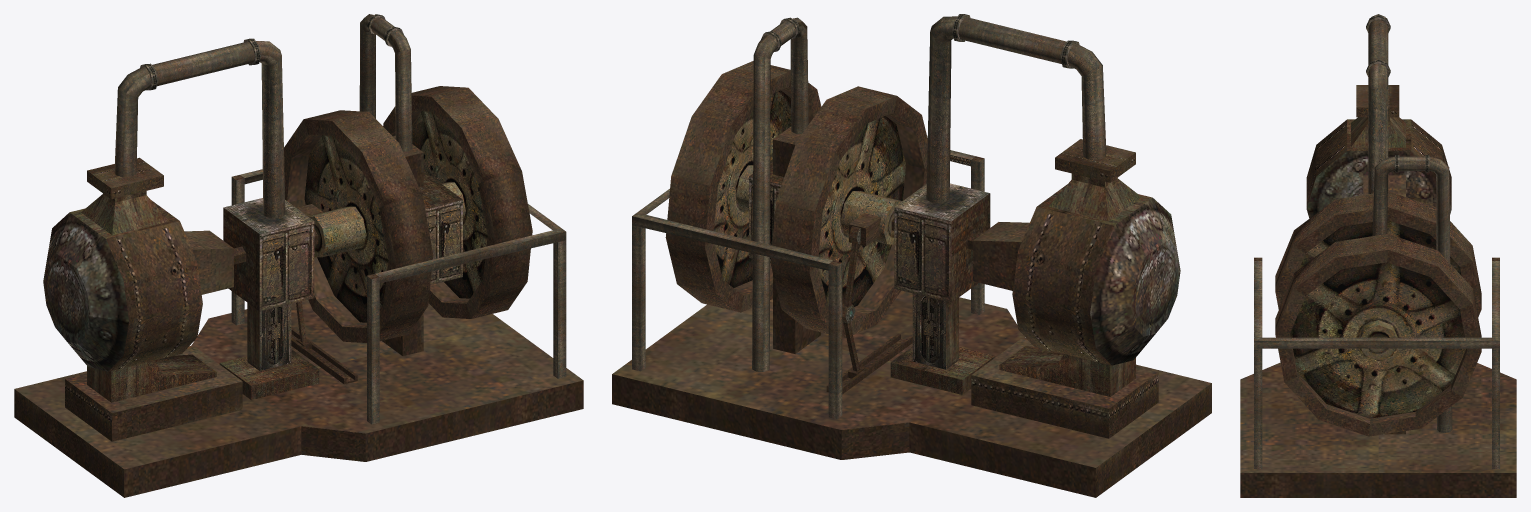
Rendered from machine_industrial_01.fbx.
3 renders of one model, left to right at view 1: azimuth 30°, elevation 25°; view 2: azimuth 150°, elevation 25°; view 3: azimuth 270°, elevation 25°, orthographic. The views are drawn at different scales.
Parts seen in each view (by area): view 1: mesh_5, mesh_31, mesh_23, mesh_0, mesh_1, mesh_13, mesh_9, mesh_32, mesh_15, mesh_24, mesh_14, mesh_7 (+13 smaller); view 2: mesh_5, mesh_31, mesh_23, mesh_0, mesh_1, mesh_13, mesh_9, mesh_15, mesh_14, mesh_32, mesh_24, mesh_7 (+14 smaller); view 3: mesh_5, mesh_24, mesh_23, mesh_31, mesh_22, mesh_0, mesh_14, mesh_13, mesh_1, mesh_32, mesh_27, mesh_4 (+4 smaller).
Part boxes in pixels (left/top/right/bottom): mesh_5: left=14, top=300, right=583, bottom=497; mesh_31: left=284, top=110, right=433, bottom=342; mesh_23: left=383, top=86, right=532, bottom=318; mesh_0: left=43, top=199, right=179, bottom=371; mesh_1: left=106, top=221, right=202, bottom=371; mesh_13: left=114, top=38, right=285, bottom=218; mesh_9: left=223, top=198, right=314, bottom=311; mesh_32: left=304, top=135, right=388, bottom=322; mesh_15: left=65, top=347, right=242, bottom=441; mesh_24: left=412, top=111, right=487, bottom=298; mesh_14: left=359, top=14, right=412, bottom=151; mesh_7: left=87, top=354, right=216, bottom=402; mesh_5: left=612, top=290, right=1211, bottom=497; mesh_31: left=770, top=86, right=927, bottom=338; mesh_23: left=665, top=61, right=821, bottom=312; mesh_0: left=1037, top=185, right=1180, bottom=365; mesh_1: left=1012, top=207, right=1113, bottom=365; mesh_13: left=926, top=14, right=1106, bottom=203; mesh_9: left=894, top=183, right=990, bottom=302; mesh_15: left=971, top=339, right=1158, bottom=438; mesh_14: left=752, top=17, right=808, bottom=371; mesh_32: left=818, top=116, right=905, bottom=306; mesh_24: left=714, top=90, right=791, bottom=287; mesh_7: left=999, top=346, right=1135, bottom=396; mesh_5: left=1240, top=362, right=1516, bottom=497; mesh_24: left=1290, top=262, right=1465, bottom=418; mesh_23: left=1275, top=234, right=1481, bottom=436; mesh_31: left=1275, top=191, right=1481, bottom=317; mesh_22: left=1254, top=261, right=1499, bottom=348; mesh_0: left=1306, top=119, right=1451, bottom=218; mesh_14: left=1372, top=155, right=1452, bottom=432; mesh_13: left=1366, top=14, right=1390, bottom=193; mesh_1: left=1306, top=120, right=1451, bottom=208; mesh_32: left=1299, top=220, right=1461, bottom=275; mesh_27: left=1254, top=348, right=1262, bottom=468; mesh_4: left=1351, top=117, right=1405, bottom=147.
Bounding box in the file's own units: 322 × 262 × 200.
Materials: 3 (3 with a texture image).
